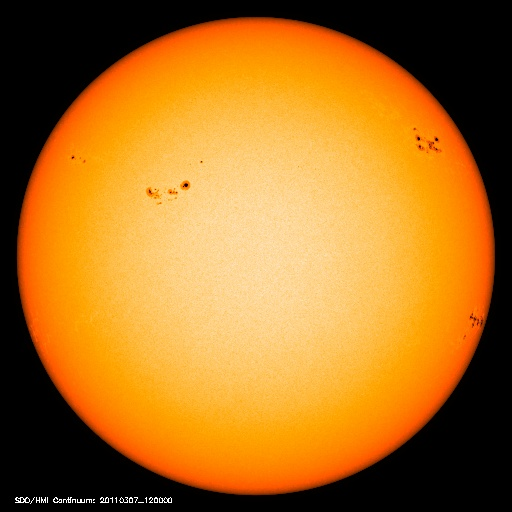sunspot: (138, 157, 209, 210), (405, 119, 448, 161), (453, 305, 492, 346), (59, 144, 93, 170)
